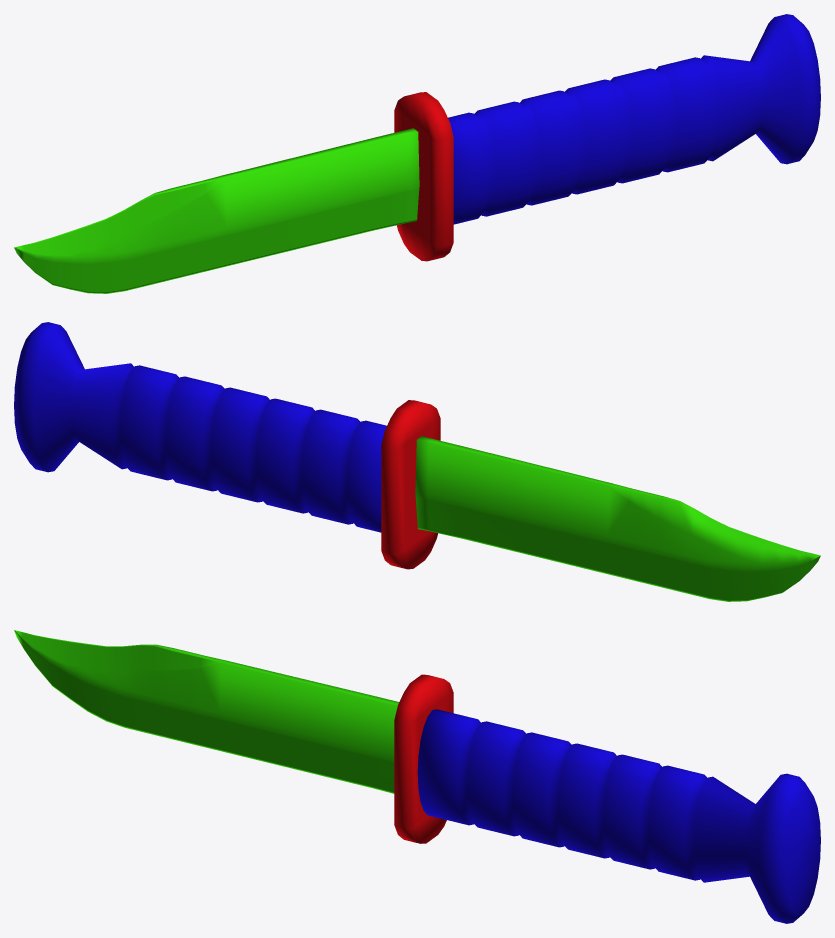
The model's file is knife.fbx.
3 renders of one model, top to bottom at view 1: azimuth 30°, elevation 25°; view 2: azimuth 150°, elevation 25°; view 3: azimuth 330°, elevation 25°, orthographic.
Parts seen in each view (by area): view 1: nóż; view 2: nóż; view 3: nóż.
Boxes of the visible parts, x1,y1,x2,y2 form: nóż: [14, 14, 820, 293]; nóż: [14, 322, 820, 601]; nóż: [14, 630, 820, 923].
Bounding box in the file's own units: 73.65 × 13.92 × 6.9.
